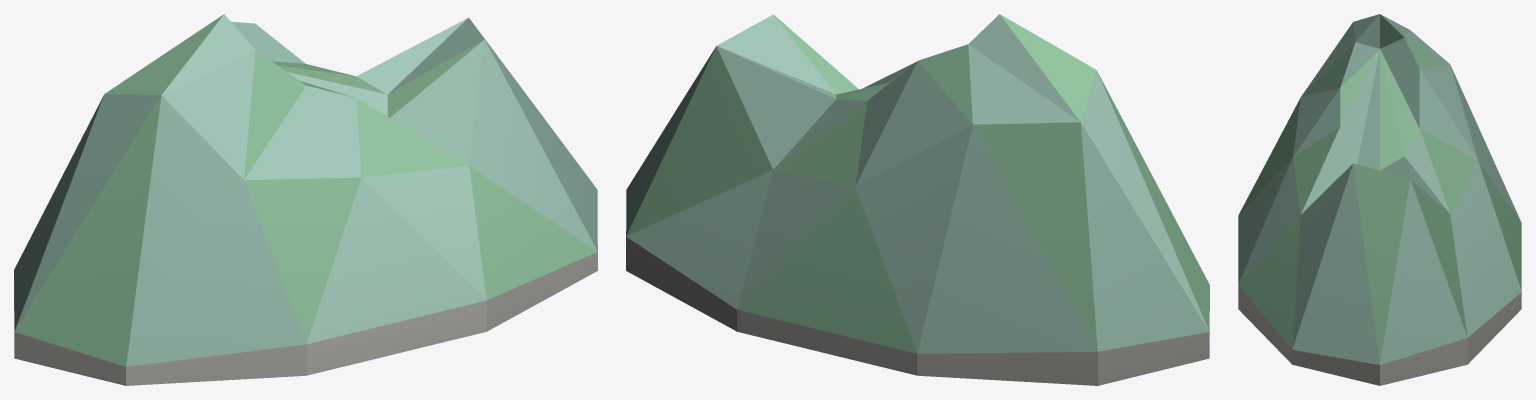
File: paper-hill-lo.glb
The picture shows the model from 3 angles, left to right: view 1: azimuth 30°, elevation 25°; view 2: azimuth 150°, elevation 25°; view 3: azimuth 270°, elevation 25°; orthographic projection. The views are drawn at different scales.
Parts seen in each view (by area): view 1: root_mesh; view 2: root_mesh; view 3: root_mesh.
Boxes of the visible parts, <box> form: root_mesh: <box>14,14,597,385</box>; root_mesh: <box>626,14,1209,385</box>; root_mesh: <box>1238,14,1521,385</box>.
Bounding box in the file's own units: 5.2 × 2.5 × 2.8.
